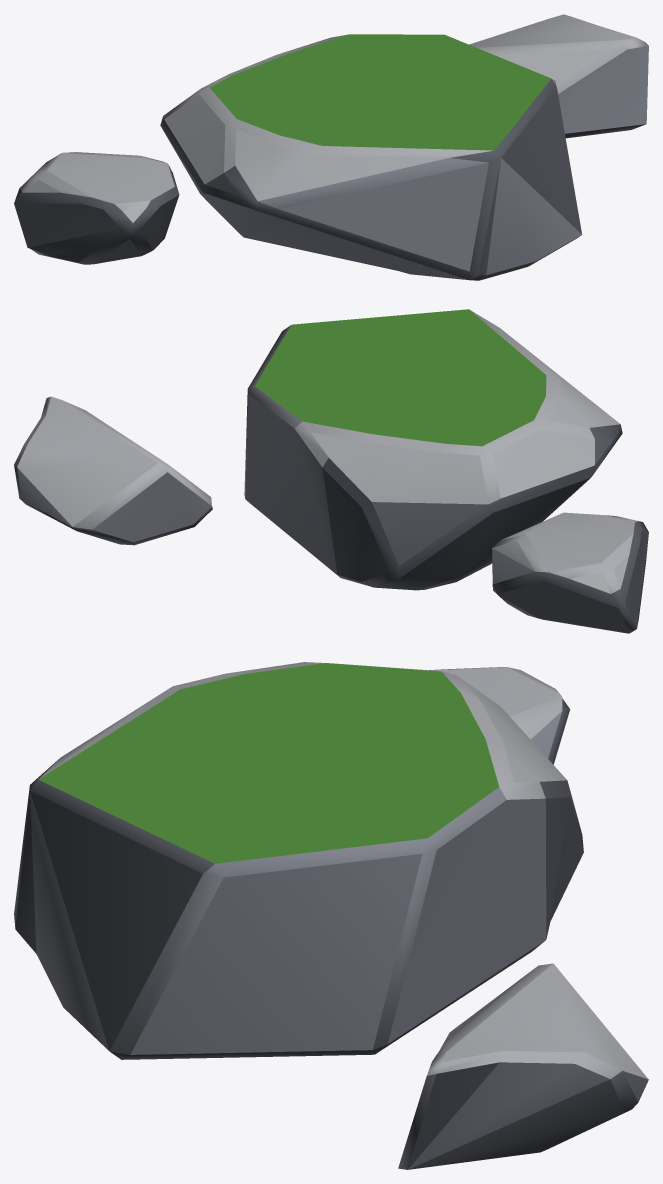
The model's file is Rock_03.glb.
3 views of the same model, one above another, from view 1: azimuth 30°, elevation 25°; view 2: azimuth 150°, elevation 25°; view 3: azimuth 270°, elevation 25° (orthographic). The views are drawn at different scales.
Parts seen in each view (by area): view 1: Rock_03; view 2: Rock_03; view 3: Rock_03.
Boxes of the visible parts, <box> form: Rock_03: <box>14,14,648,280</box>; Rock_03: <box>14,309,648,633</box>; Rock_03: <box>14,662,648,1169</box>.
Bounding box in the file's own units: 4.45 × 0.9724 × 2.74.
